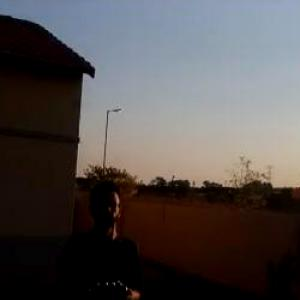follow: (48, 178, 148, 298)
